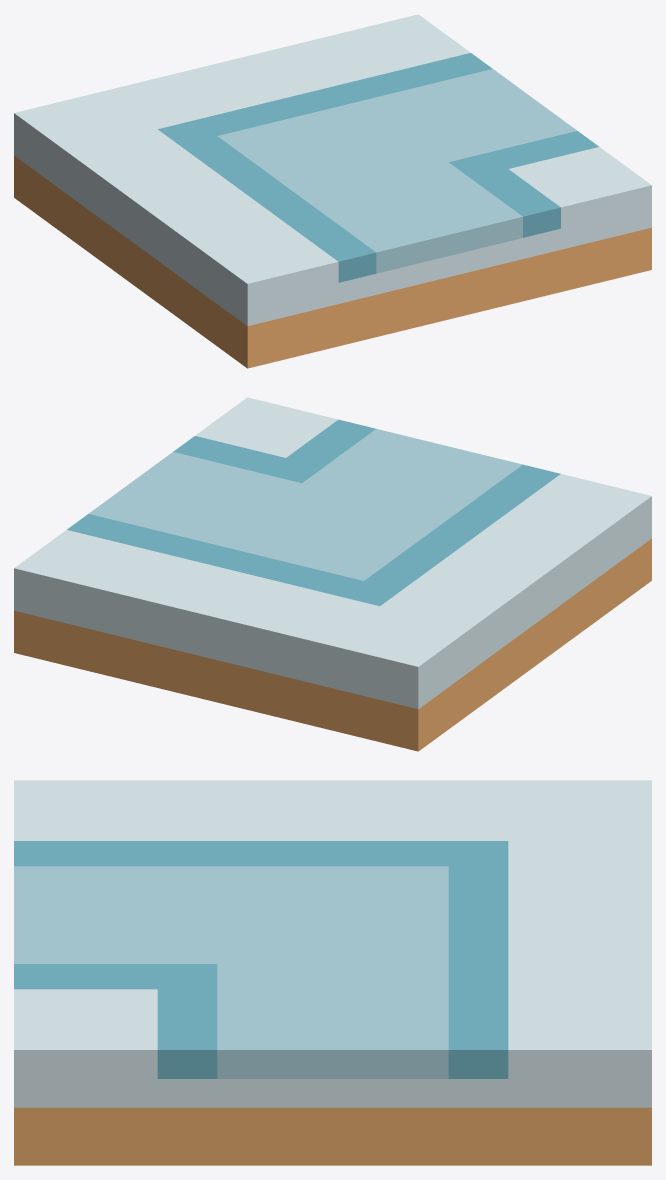
Rendered from snow_tile_cornerSquare(+).fbx.
The picture shows the model from 3 angles, top to bottom: view 1: azimuth 30°, elevation 25°; view 2: azimuth 150°, elevation 25°; view 3: azimuth 270°, elevation 25°; orthographic projection. The views are drawn at different scales.
Visible parts, largest first — view 1: Mesh_1; view 2: Mesh_1; view 3: Mesh_1.
Boxes of the visible parts, box(x1,y1,x2,y2) form: Mesh_1: box(14, 14, 651, 368); Mesh_1: box(14, 397, 651, 751); Mesh_1: box(14, 780, 651, 1165).
Size of the model in its own units: 100 by 20 by 100.
